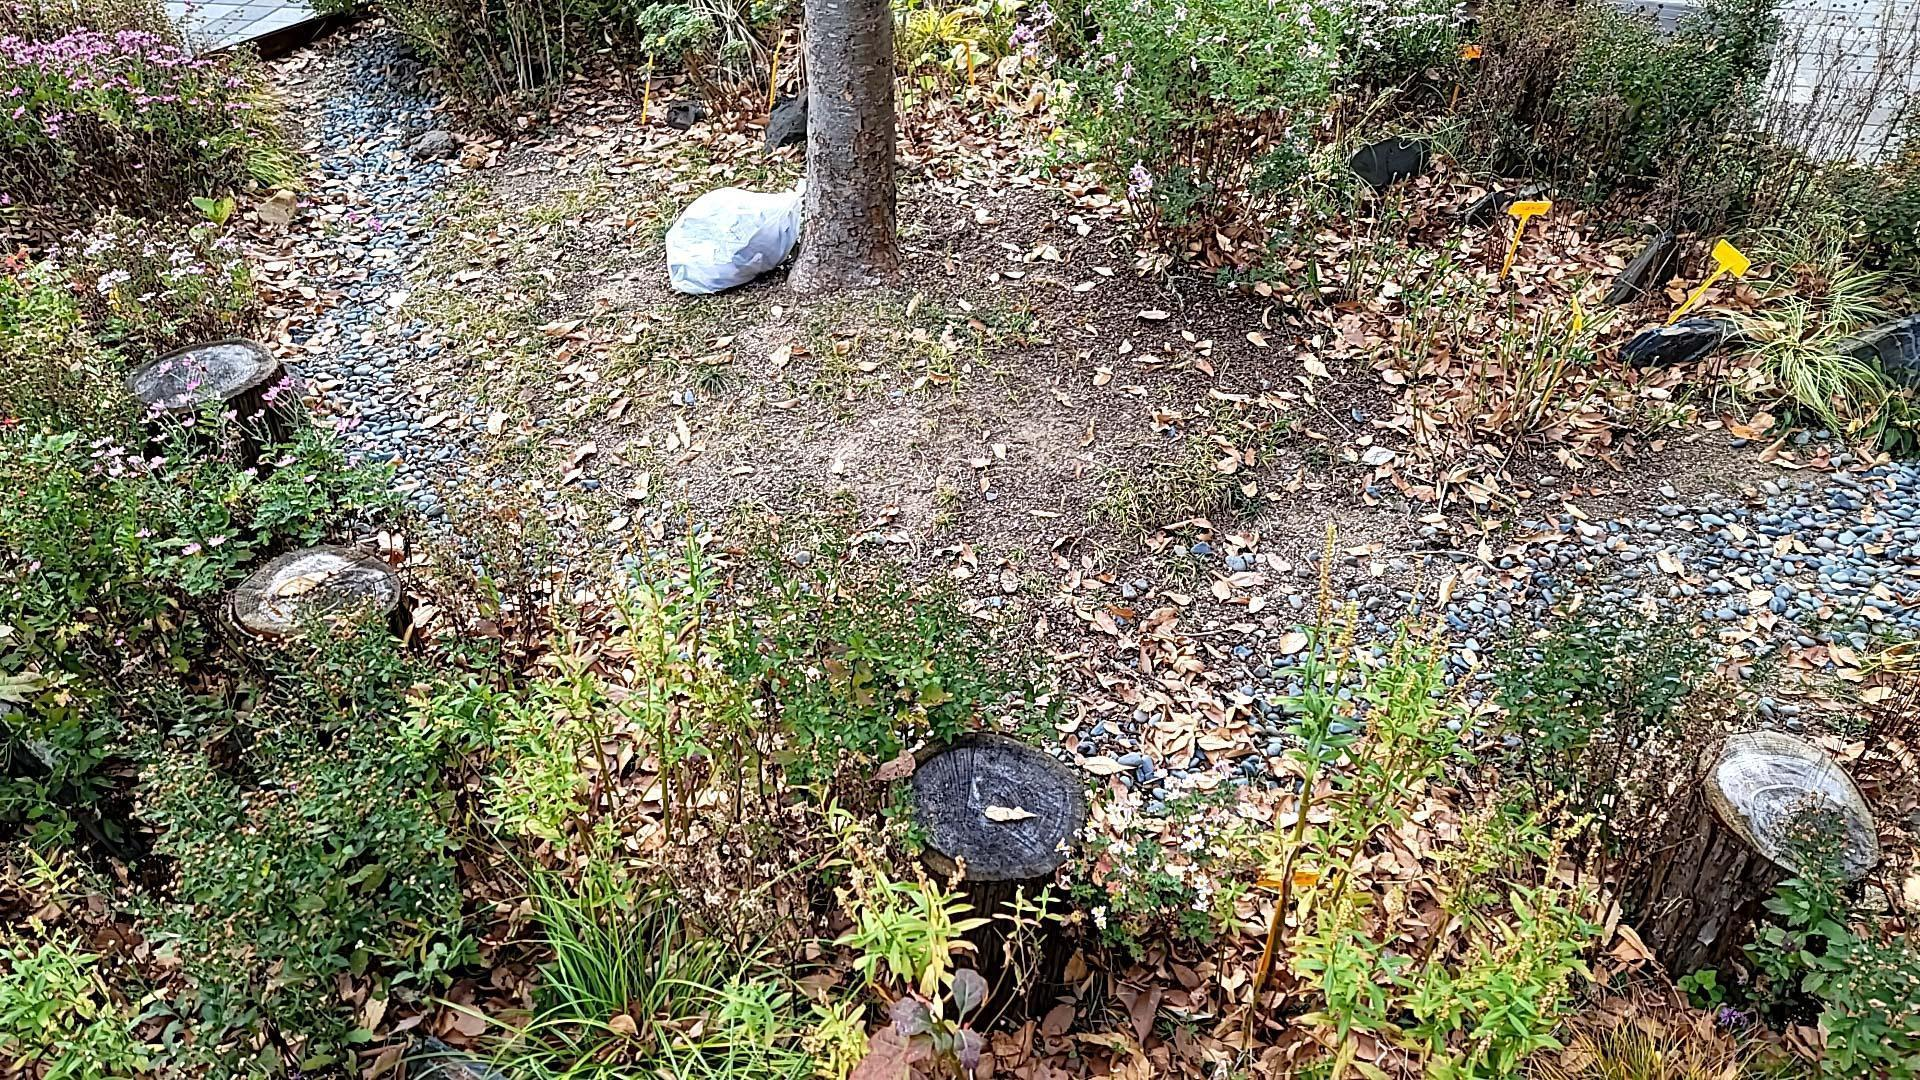white_bag: (654, 164, 810, 298)
